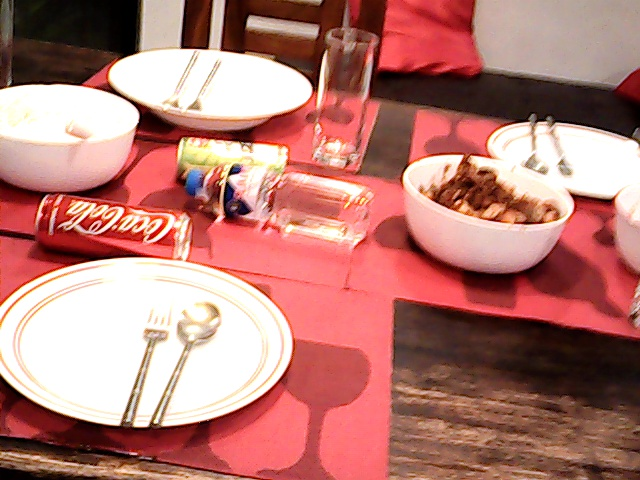Cola: (27, 186, 191, 265)
Pine Juice: (177, 128, 286, 172)
Summit Water: (186, 157, 371, 239)
